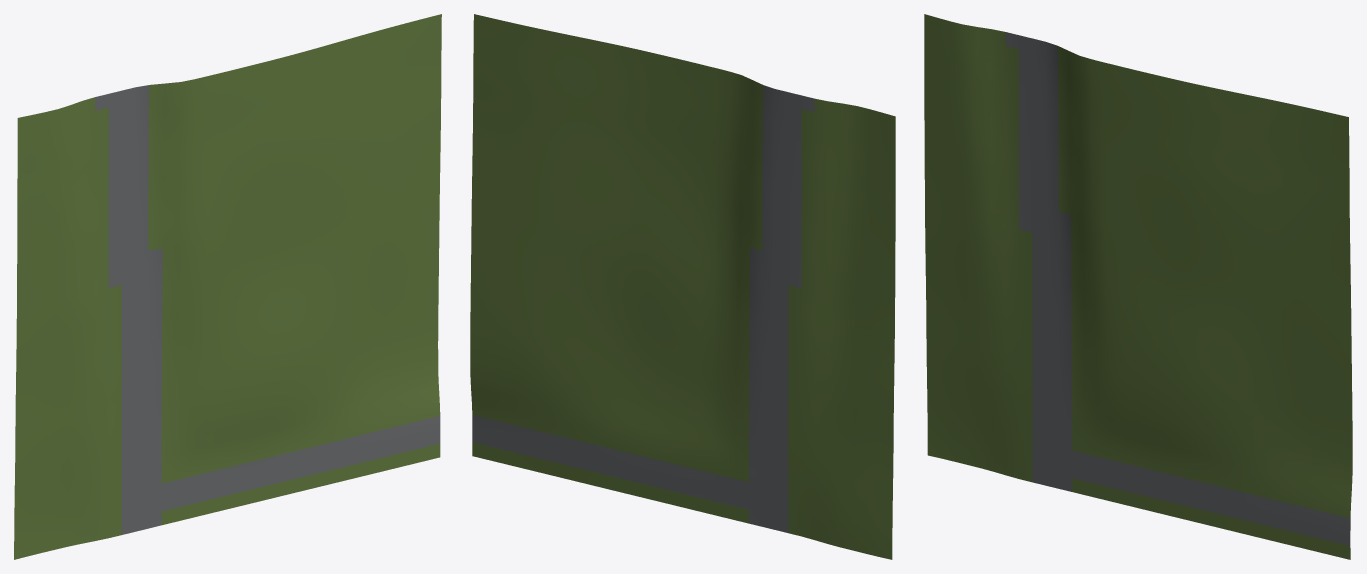
Rendered from island_terrain_21_06.obj.
The picture shows the model from 3 angles, left to right: view 1: azimuth 30°, elevation 25°; view 2: azimuth 150°, elevation 25°; view 3: azimuth 330°, elevation 25°; orthographic projection.
Parts seen in each view (by area): view 1: island_terrain_21_06; view 2: island_terrain_21_06; view 3: island_terrain_21_06.
Part boxes in pixels (x1,y1,x2,y2): island_terrain_21_06: (14,14,441,559); island_terrain_21_06: (470,14,895,559); island_terrain_21_06: (924,14,1352,559).
Bounding box in the file's own units: 256 × 256 × 9.27.
